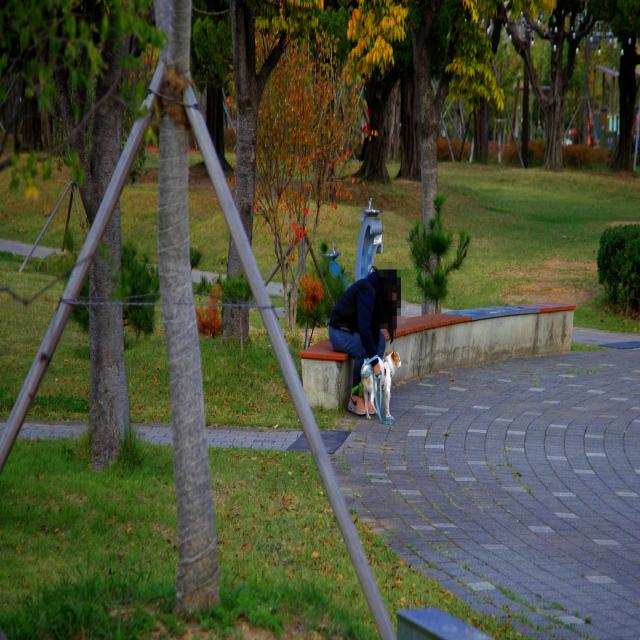Leashed_Dog: (348, 328, 402, 423)
